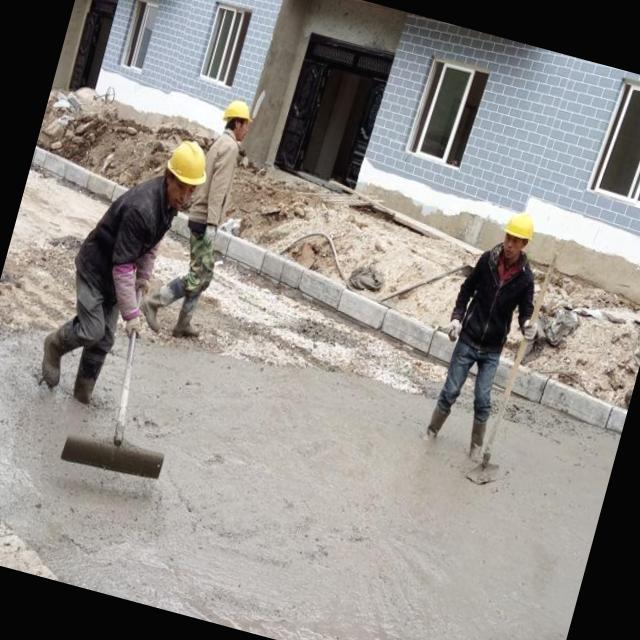helmet: (156, 130, 216, 200), (214, 88, 258, 140), (494, 207, 540, 252)
no-vest: (67, 176, 173, 336), (451, 253, 532, 371)
